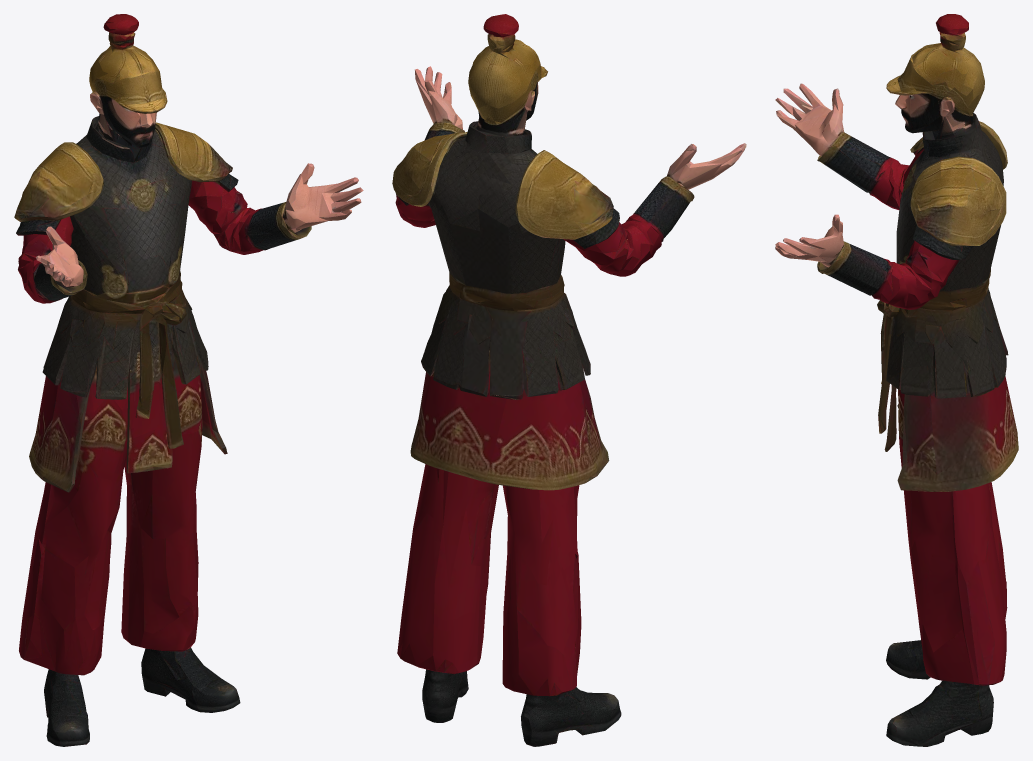
File: char_CV_daidao.glb
3 views of the same model, side by side, from view 1: azimuth 30°, elevation 25°; view 2: azimuth 150°, elevation 25°; view 3: azimuth 270°, elevation 25° (orthographic). The views are drawn at different scales.
Size of the model in its own units: 0.9239 by 1.9 by 0.6089.
1 material, 1 textured.
